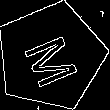M_NE: (18, 25, 84, 88)
